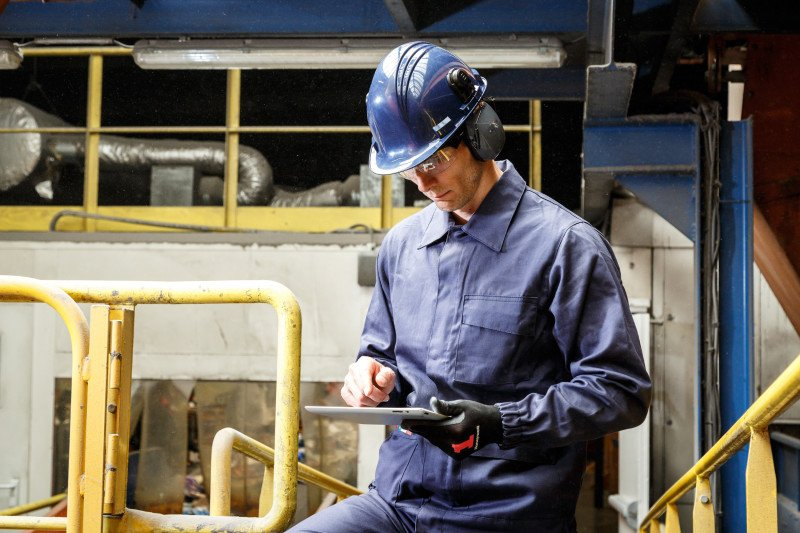Hard Hat: (366, 44, 493, 173)
